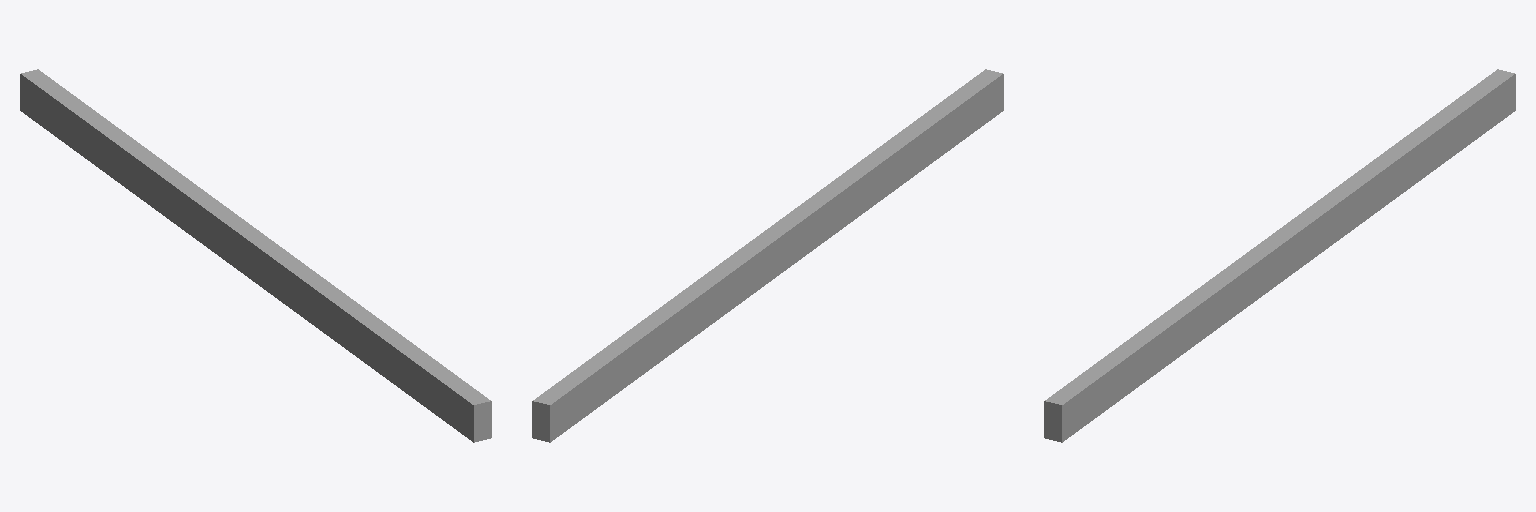
URDF robot description (block_2):
<?xml version="1.0"?>
<robot name="block_2">
  <link name="block_2_base_link">
    <contact>
      <lateral_friction value="1.0"/>
      <spinning_friction value=".001"/>
    </contact>
    <inertial>
      <origin rpy="0 0 0" xyz="0 0 0"/>
      <mass value="0.02"/>
      <inertia ixx="1" ixy="0" ixz="0" iyy="1" iyz="0" izz="1"/>
    </inertial>
    <visual>
      <origin rpy="0 0 0" xyz="0.0 0.0 0.0"/>
      <geometry>
        <box size=".5 22 1"/>
      </geometry>
      <material name="blockmat">
        <color rgba=".7 .7 .7 1"/>
      </material>
    </visual>
    <collision>
      <origin rpy="0 0 0" xyz="0.0 0.0 0.0"/>
      <geometry>
        <box size=".5 22 1"/>
      </geometry>
    </collision>
  </link>
</robot>

--- What the picture shows (computed from the rendered views, not written in the file) ---
3 views of the same robot in one strip: view 1: azimuth 30°, elevation 25°; view 2: azimuth 150°, elevation 25°; view 3: azimuth 330°, elevation 25° (orthographic).
Model block_2 with 1 links and 0 joints (none), rooted at block_2_base_link, posed all joints at 0.
Links seen in each view (by area): view 1: block_2_base_link; view 2: block_2_base_link; view 3: block_2_base_link.
Link boxes in pixels (<box>): block_2_base_link: <box>20,69,491,442</box>; block_2_base_link: <box>532,69,1003,442</box>; block_2_base_link: <box>1044,69,1515,442</box>.
Size in the robot's own frame: 0.5 by 22 by 1 metres.
Geometry: primitives only (box / cylinder / sphere), no mesh files.
